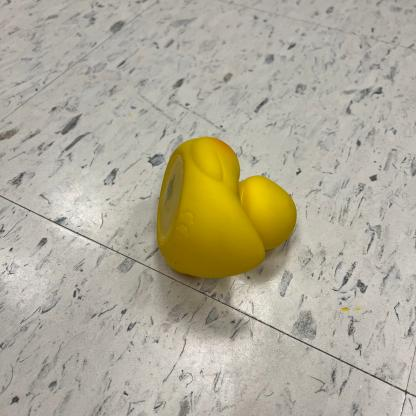duck: (153, 132, 301, 283)
